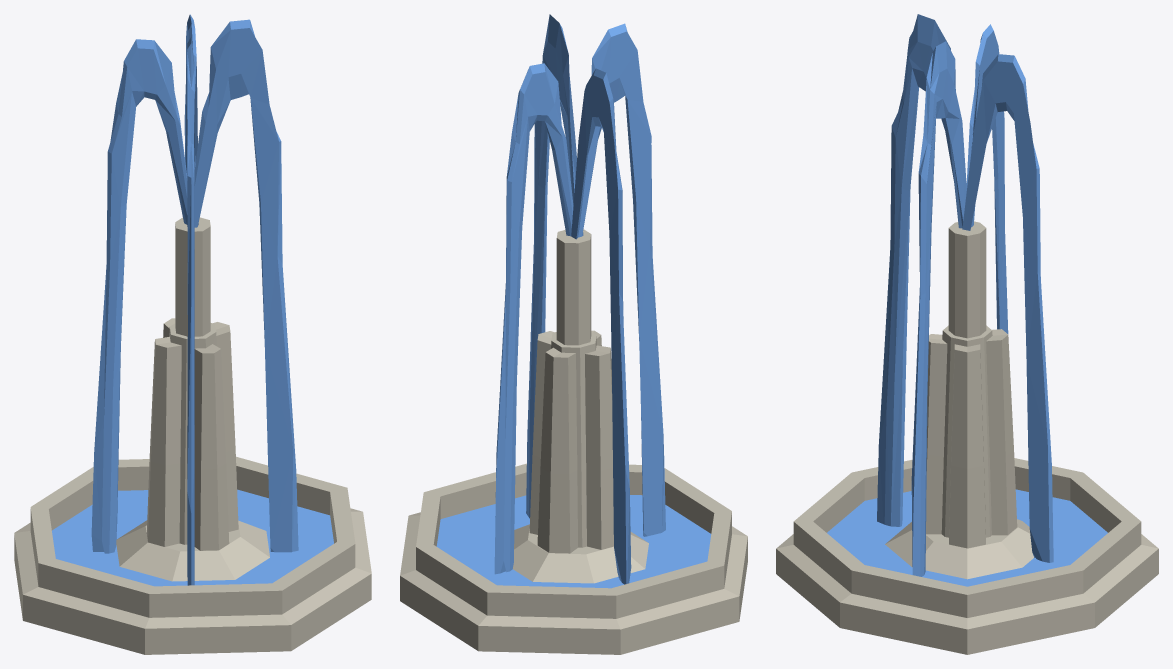
The picture shows the model from 3 angles, left to right: view 1: azimuth 30°, elevation 25°; view 2: azimuth 150°, elevation 25°; view 3: azimuth 270°, elevation 25°; orthographic projection. The views are drawn at different scales.
Visible parts, largest first — view 1: Fountain01; view 2: Fountain01; view 3: Fountain01.
Part boxes in pixels (box(x1,y1,x2,y2)): Fountain01: box(14, 14, 371, 654); Fountain01: box(400, 14, 747, 654); Fountain01: box(776, 14, 1158, 654).
Bounding box in the file's own units: 10.6 × 16.73 × 10.6.
